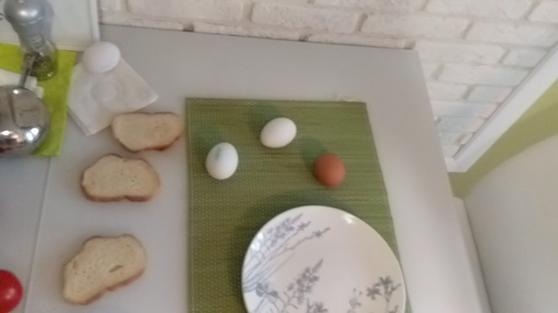egg: (204, 138, 239, 183), (85, 38, 124, 77), (256, 113, 297, 148), (314, 149, 342, 187)
white_bread: (64, 231, 149, 303), (79, 154, 158, 211), (107, 110, 189, 149)
